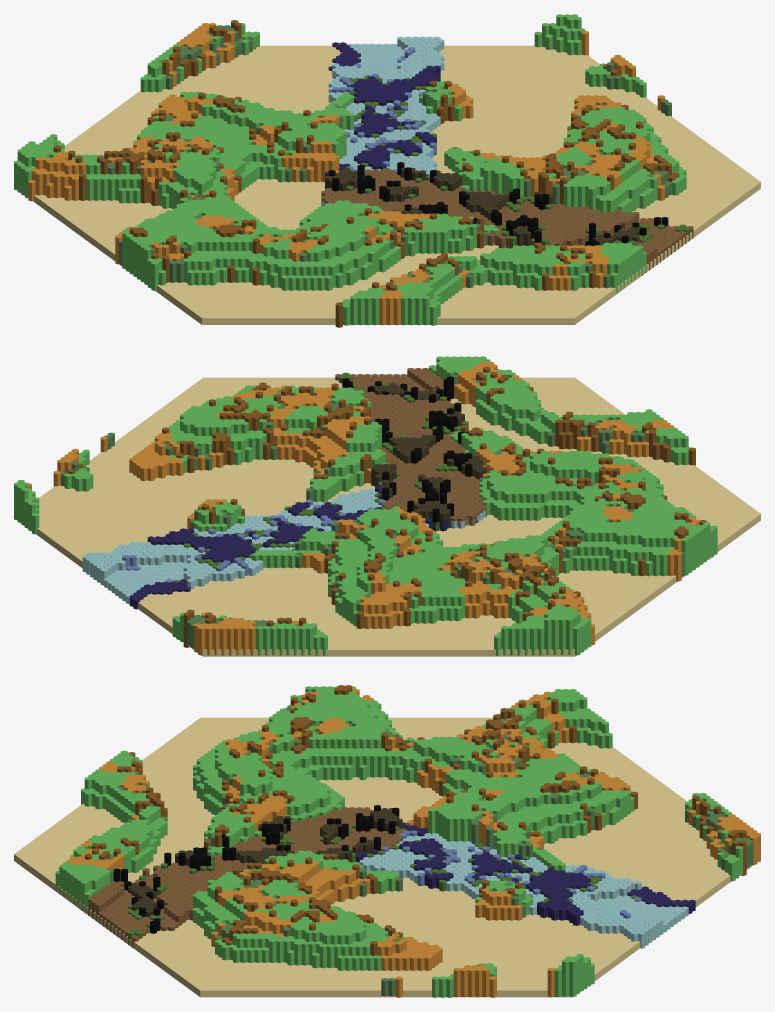
File: 0017_tile_1222021.fbx
The picture shows the model from 3 angles, top to bottom: view 1: azimuth 30°, elevation 25°; view 2: azimuth 150°, elevation 25°; view 3: azimuth 270°, elevation 25°; orthographic projection.
Parts seen in each view (by area): view 1: Plane; view 2: Plane; view 3: Plane.
Part boxes in pixels (x1,y1,x2,y2): Plane: [14, 14, 760, 327]; Plane: [14, 356, 760, 656]; Plane: [14, 685, 760, 997].
Size of the model in its own units: 1008 by 72.02 by 1152.
